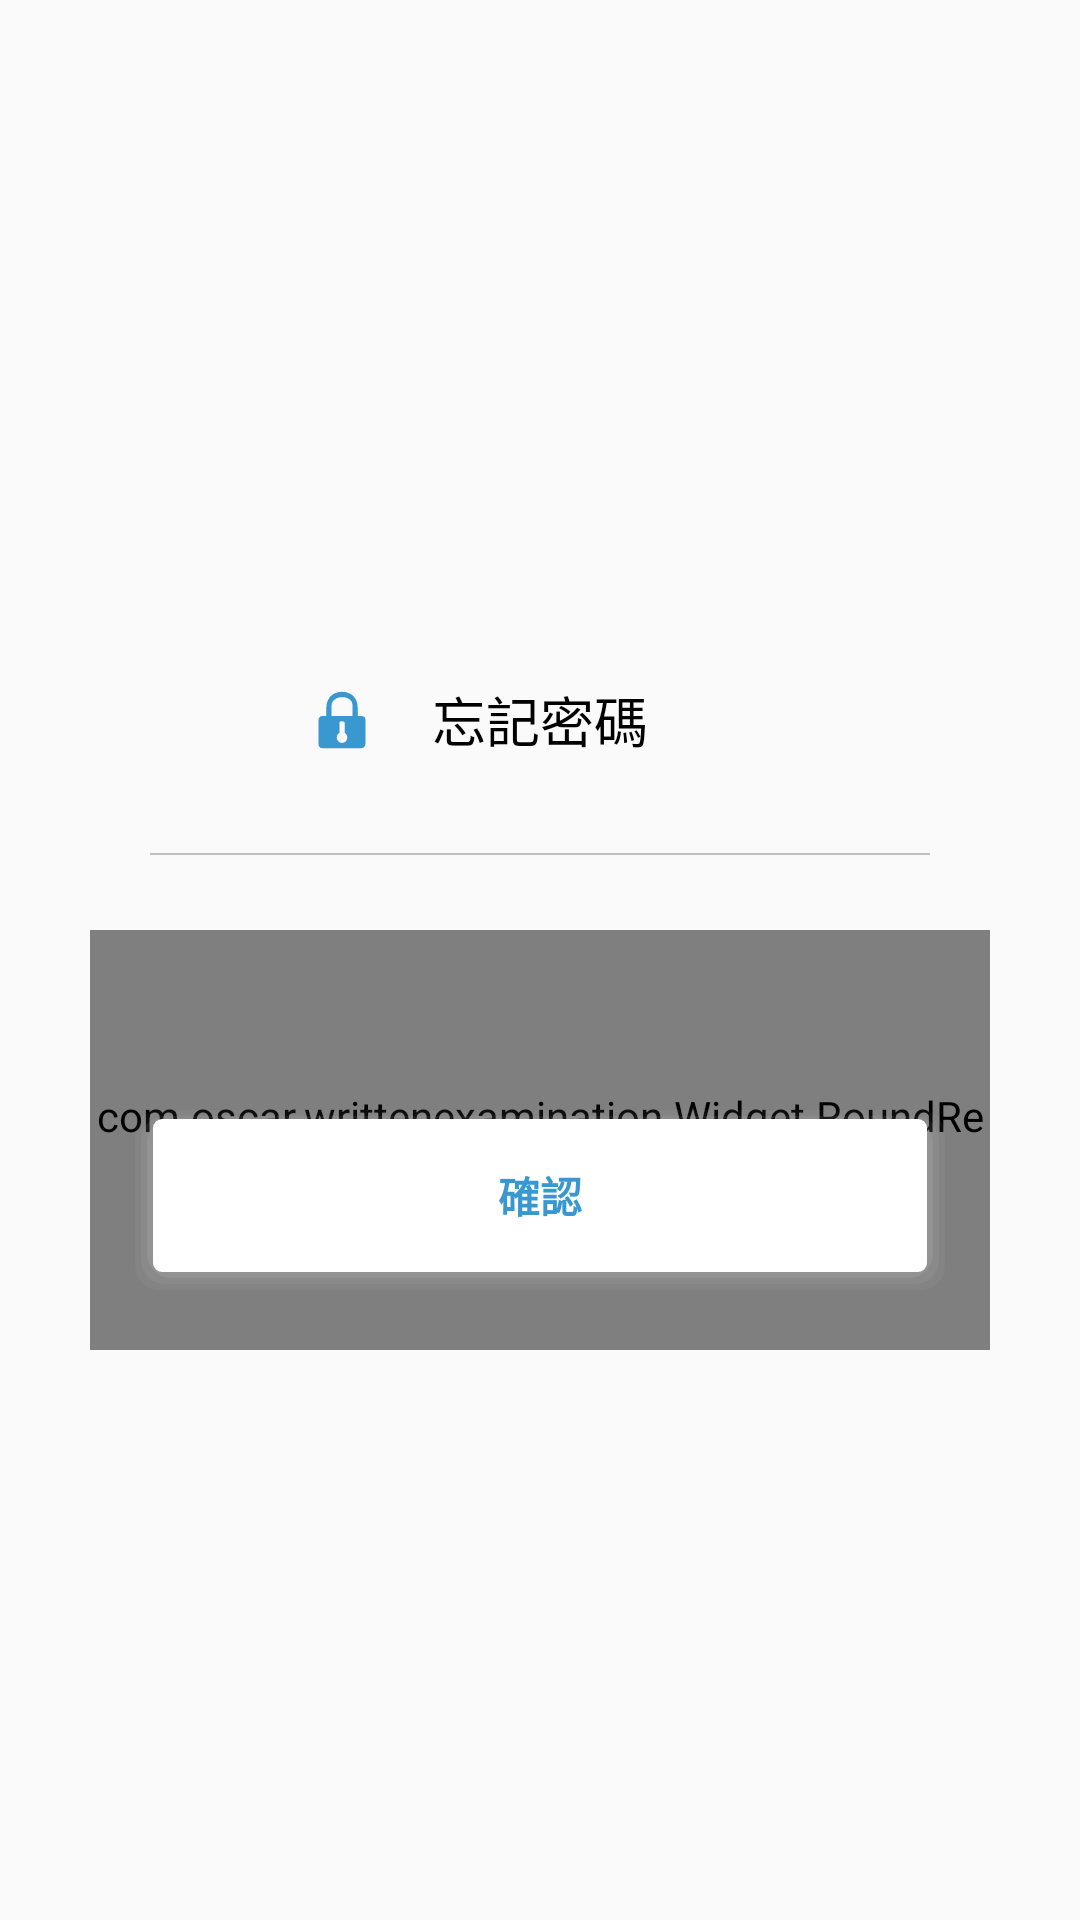

Locate icon controls on the screen. Image size 1080 × 1920, boxes as (x1, y1, x2, y2).
password: (318, 691, 366, 749)
